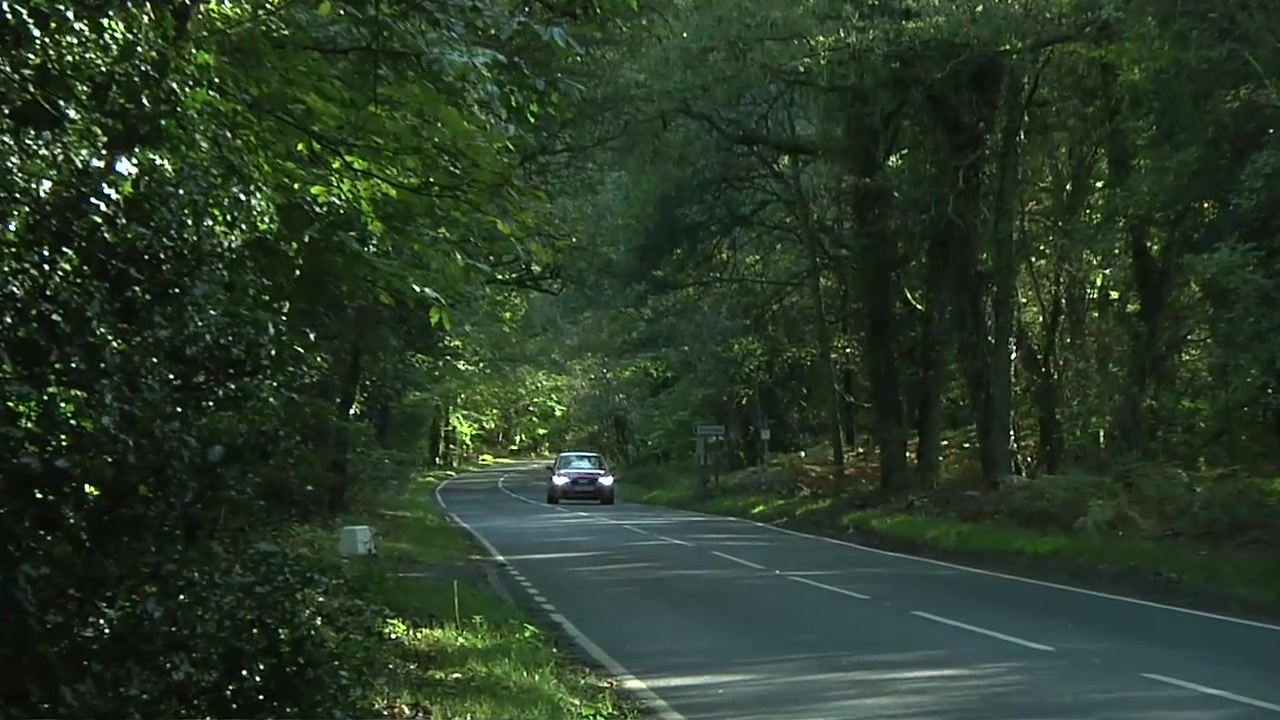car: (547, 451, 615, 508)
